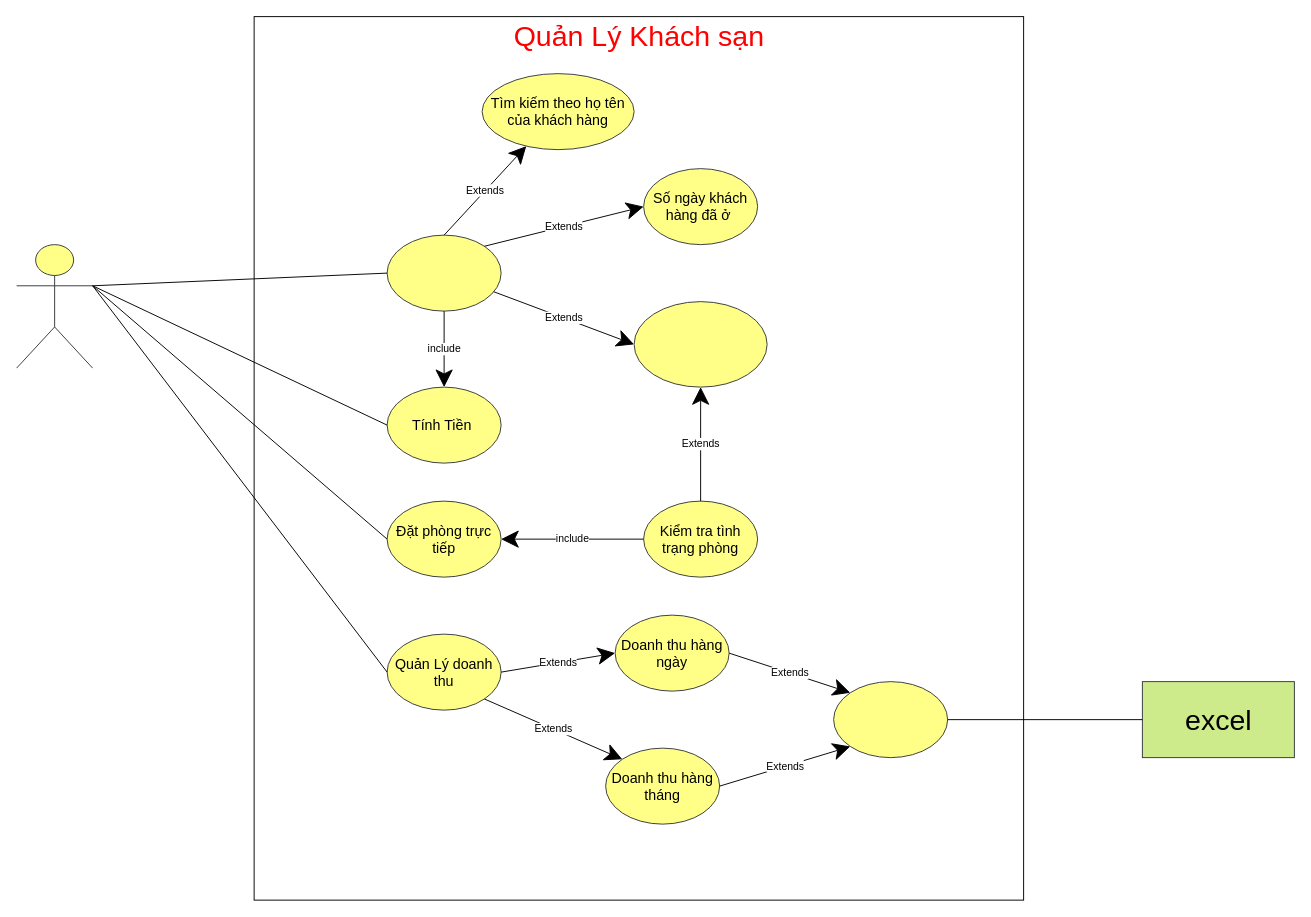
This 1311x917 diagram has some shape labels left out. Here are the shapes that lost their labels. From the top down, the centre of each, then its label:
the point at 443,272: Tìm kiếm thông tin phòng
the point at 54,306: Lễ tân
the point at 700,344: Xem số phòng còn trống
the point at 890,719: Xuất ra file excel
